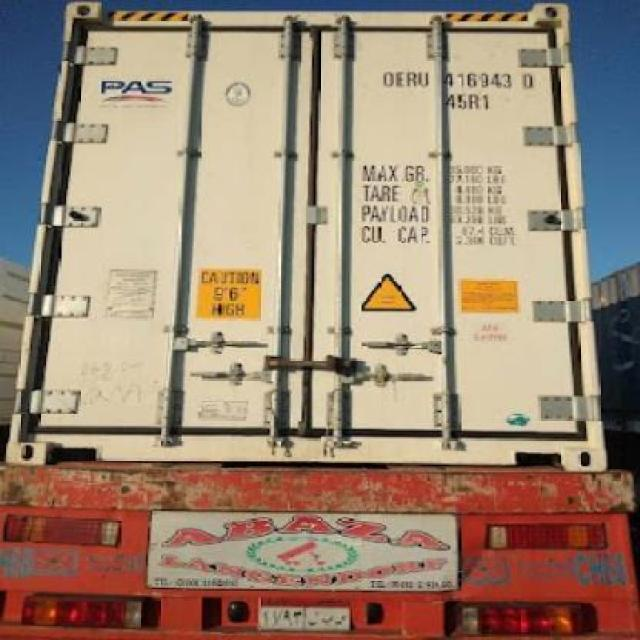ISO: (448, 91, 491, 111)
container_number: (385, 69, 535, 90)
